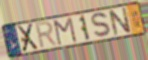1: (78, 13, 92, 42)
M: (53, 16, 79, 47)
N: (107, 6, 133, 38)
R: (34, 20, 59, 51)
S: (90, 12, 114, 39)
X: (17, 22, 41, 54)
